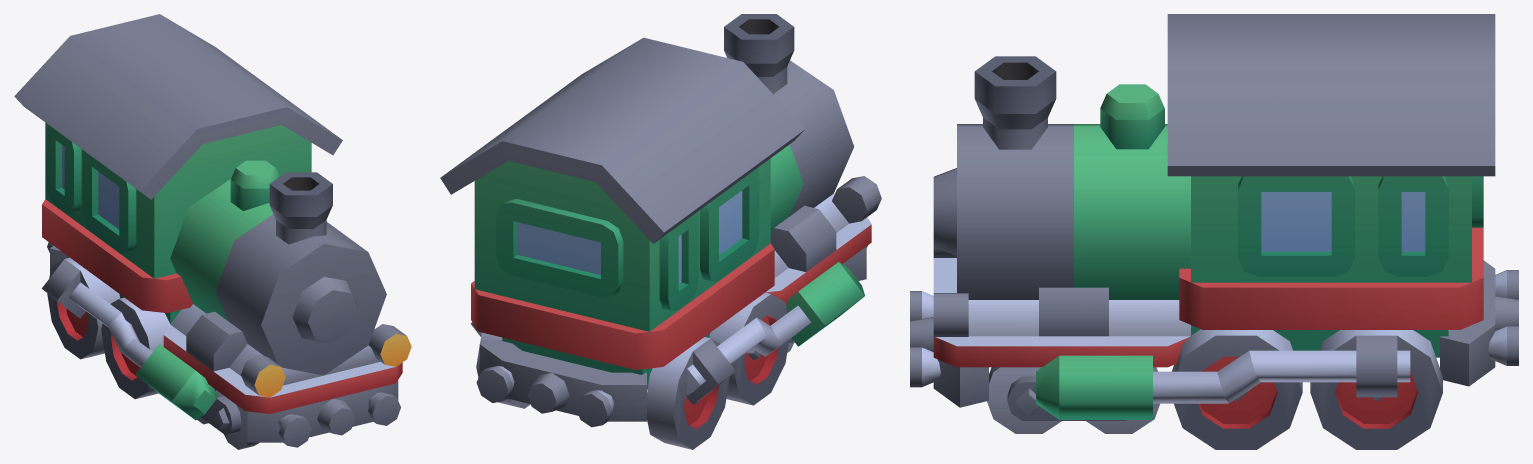
Rendered from anglok.glb.
The picture shows the model from 3 angles, left to right: view 1: azimuth 30°, elevation 25°; view 2: azimuth 150°, elevation 25°; view 3: azimuth 270°, elevation 25°; orthographic projection. The views are drawn at different scales.
Parts seen in each view (by area): view 1: train-locomotive-a, wheel (×2), wheels-front; view 2: train-locomotive-a, wheel (×2); view 3: train-locomotive-a, wheel (×2), wheels-front.
Part boxes in pixels (bbox=[...]): train-locomotive-a: bbox=[14, 14, 411, 447]; wheel (×2): bbox=[47, 257, 170, 399]; wheels-front: bbox=[197, 389, 259, 449]; train-locomotive-a: bbox=[440, 14, 881, 427]; wheel (×2): bbox=[647, 292, 789, 449]; train-locomotive-a: bbox=[910, 14, 1518, 419]; wheel (×2): bbox=[1171, 329, 1442, 449]; wheels-front: bbox=[987, 367, 1159, 433].
Size of the model in its own units: 1.43 by 1.66 by 2.6.
Materials: 1 (1 with a texture image).
